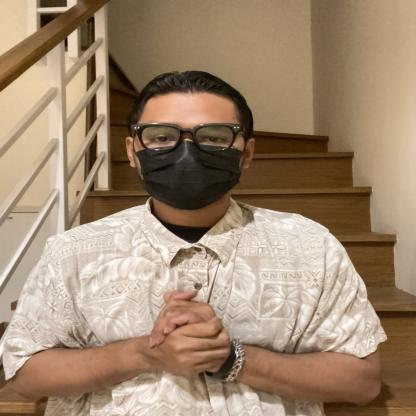Grieve: (70, 269, 332, 393)
